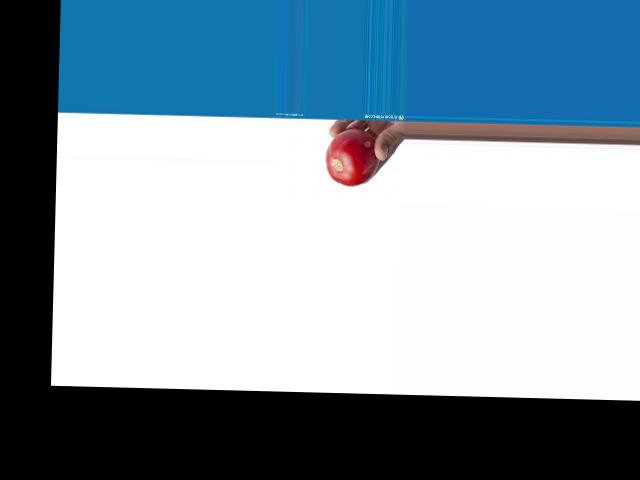tomato: (324, 128, 380, 186)
